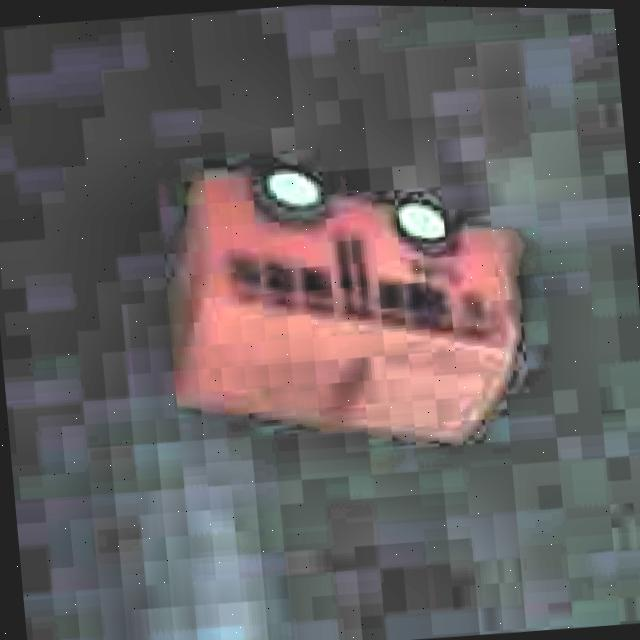bus: (154, 130, 543, 474)
